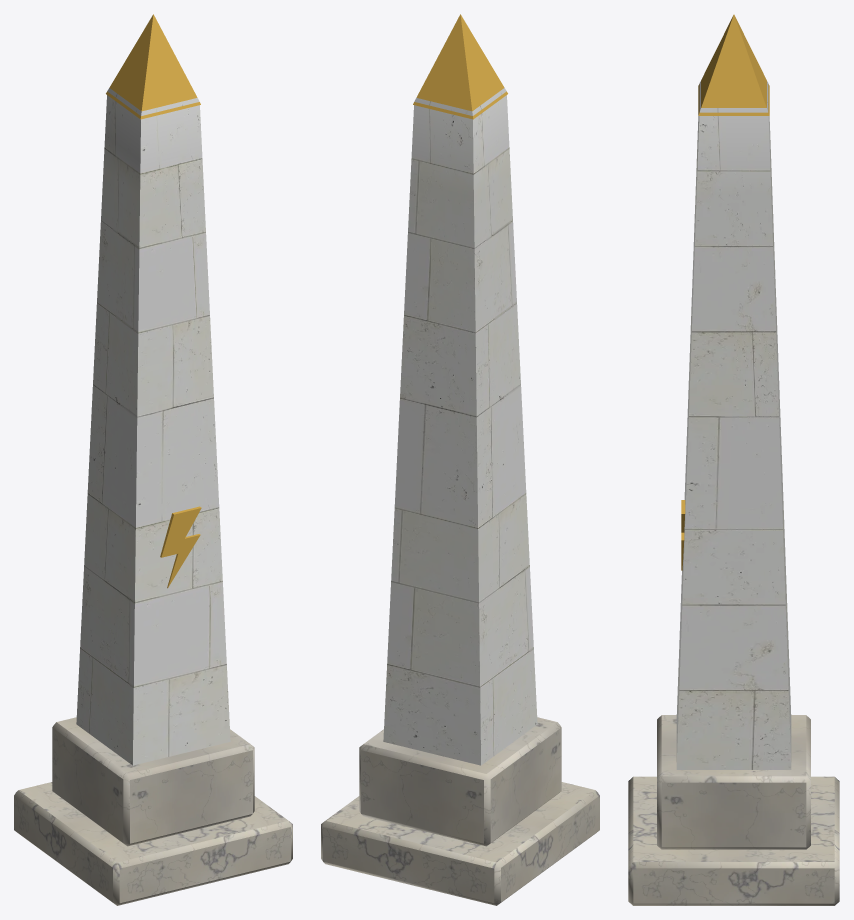
Rendered from decor_obelisk.glb.
The picture shows the model from 3 angles, left to right: view 1: azimuth 30°, elevation 25°; view 2: azimuth 150°, elevation 25°; view 3: azimuth 270°, elevation 25°; orthographic projection.
Parts seen in each view (by area): view 1: hall, step, marble, gold; view 2: hall, step, marble, gold; view 3: hall, step, marble, gold.
Boxes of the visible parts, <box> form: hall: <box>76,88,230,765</box>; step: <box>14,782,292,905</box>; marble: <box>52,717,254,846</box>; gold: <box>106,14,201,588</box>; hall: <box>383,88,537,765</box>; step: <box>321,782,599,905</box>; marble: <box>359,717,561,846</box>; gold: <box>413,14,507,119</box>; hall: <box>676,81,791,769</box>; step: <box>628,776,839,905</box>; marble: <box>657,715,810,849</box>; gold: <box>681,14,769,570</box>.
Bounding box in the file's own units: 1.3 × 5.77 × 1.3.
4 materials, 3 textured.
